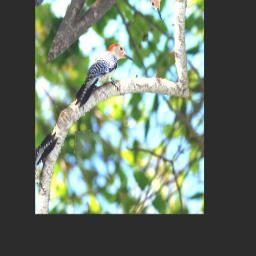Woodpecker: (69, 33, 137, 128)
